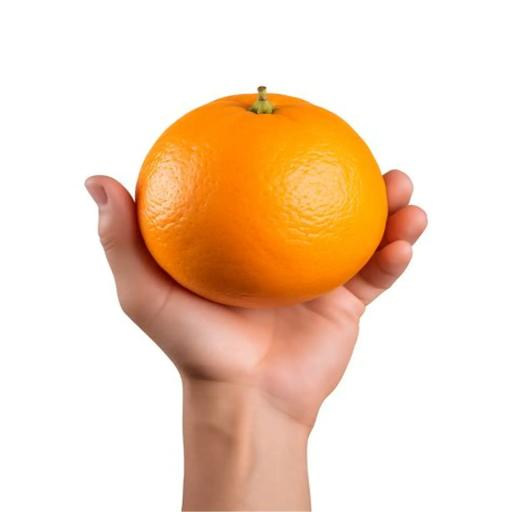orange: (136, 88, 387, 307)
